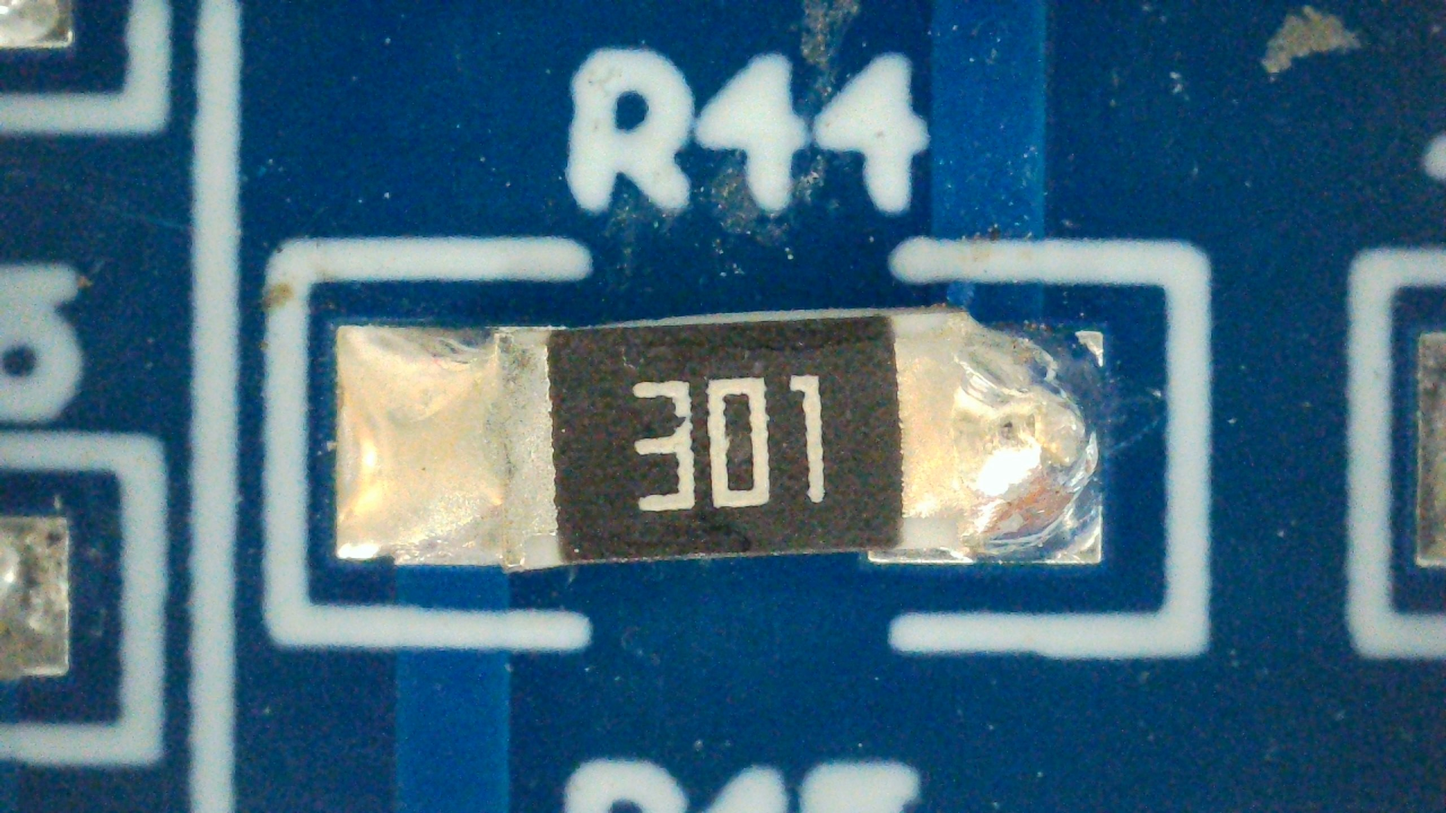OK: (336, 305, 1101, 572)
